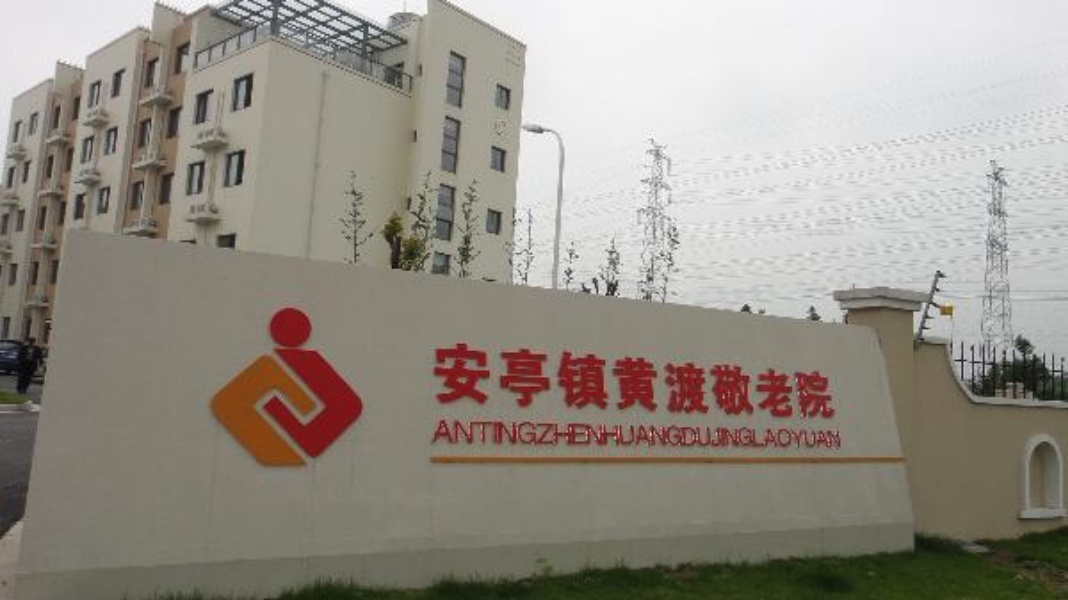text: (433, 339, 448, 424), (449, 339, 464, 424), (465, 339, 480, 424), (481, 339, 496, 424), (497, 339, 512, 424), (513, 339, 528, 424), (529, 339, 544, 424), (545, 339, 560, 424), (561, 339, 576, 424), (577, 339, 592, 424), (593, 339, 608, 424), (609, 339, 624, 424), (625, 339, 640, 424), (641, 339, 656, 424), (657, 339, 672, 424), (673, 339, 688, 424), (689, 339, 704, 424), (705, 339, 720, 424), (721, 339, 736, 424), (737, 339, 752, 424), (753, 339, 768, 424), (769, 339, 784, 424), (785, 339, 800, 424), (801, 339, 816, 424), (817, 339, 832, 424), (433, 417, 448, 451), (449, 417, 464, 451), (465, 417, 480, 451), (481, 417, 496, 451), (497, 417, 512, 451), (513, 417, 528, 451), (529, 417, 544, 451), (545, 417, 560, 451), (561, 417, 576, 451), (577, 417, 592, 451), (593, 417, 608, 451), (609, 417, 624, 451), (625, 417, 640, 451), (641, 417, 656, 451), (657, 417, 672, 451), (673, 417, 688, 451), (689, 417, 704, 451), (705, 417, 720, 451), (721, 417, 736, 451), (737, 417, 752, 451), (753, 417, 768, 451), (769, 417, 784, 451), (785, 417, 800, 451), (801, 417, 816, 451), (817, 417, 832, 451), (833, 417, 842, 451), (429, 339, 432, 424), (833, 339, 835, 424), (431, 417, 432, 451)
